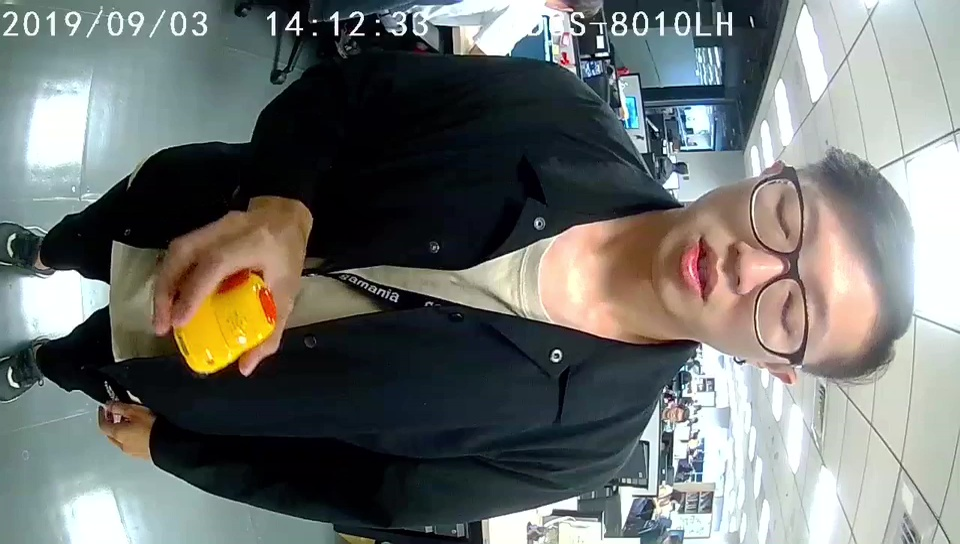car: (174, 270, 277, 372)
